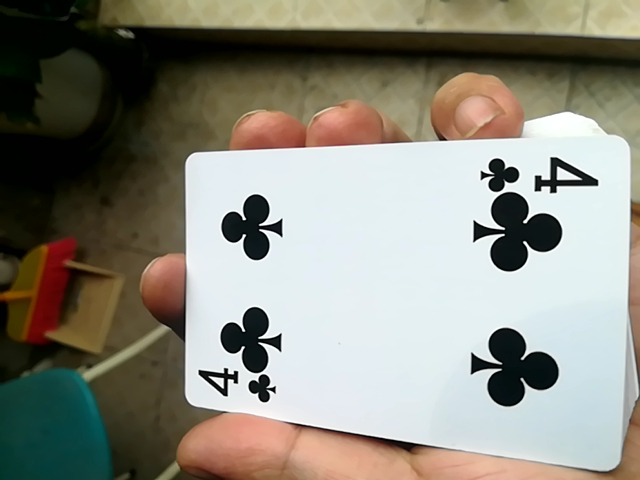mh 4: (176, 120, 627, 469)
